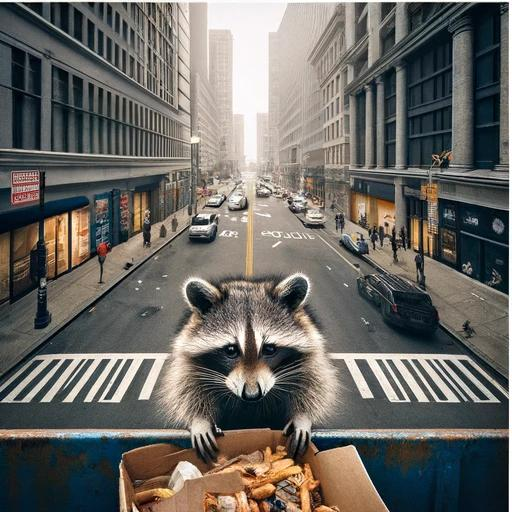raccoon: (153, 264, 347, 434)
